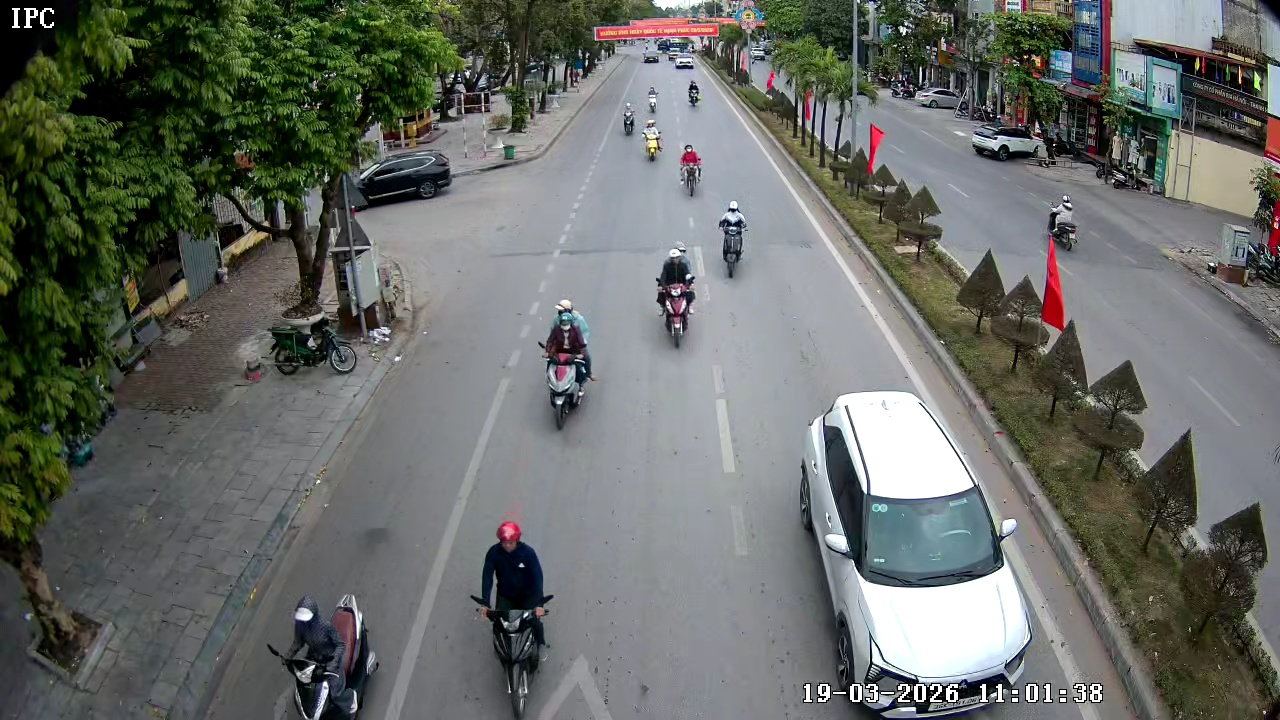car: (774, 380, 1060, 719)
motorbike: (468, 523, 557, 714), (265, 573, 378, 719), (536, 298, 598, 431), (652, 242, 699, 349), (717, 199, 748, 280), (672, 137, 708, 196), (638, 120, 669, 163), (640, 83, 666, 116), (616, 101, 638, 136), (685, 78, 705, 110)
